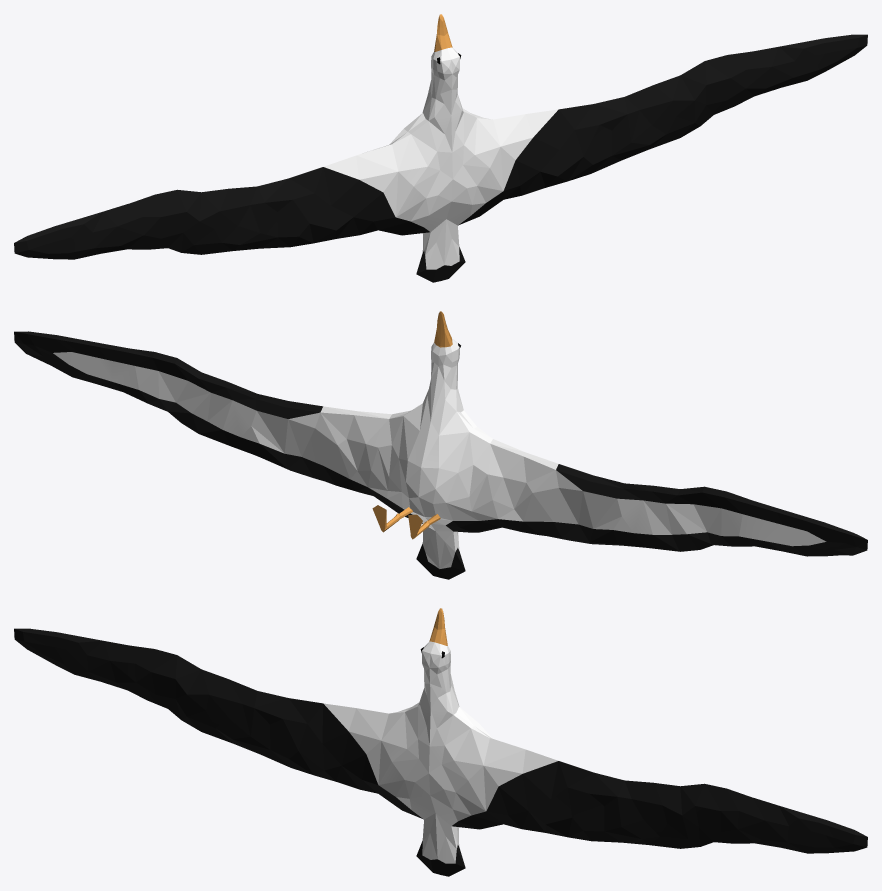
File: Albatross.obj
3 views of the same model, one above another, from view 1: azimuth 30°, elevation 25°; view 2: azimuth 150°, elevation 25°; view 3: azimuth 330°, elevation 25° (orthographic).
Parts seen in each view (by area): view 1: Albatross_0; view 2: Albatross_0; view 3: Albatross_0.
Part boxes in pixels (x1,y1,x2,y2): Albatross_0: [14, 14, 867, 282]; Albatross_0: [14, 311, 867, 579]; Albatross_0: [14, 608, 867, 876].
Size of the model in its own units: 4.04 by 1.2 by 0.4551.
1 material, 1 textured.
